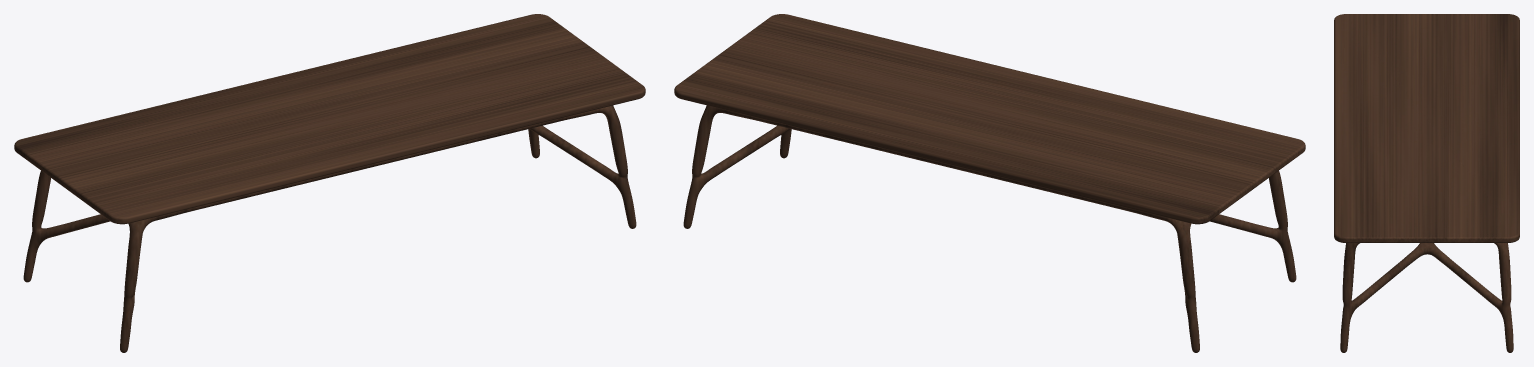
File: dining-table.glb
3 renders of one model, left to right at view 1: azimuth 30°, elevation 25°; view 2: azimuth 150°, elevation 25°; view 3: azimuth 270°, elevation 25°, orthographic. The views are drawn at different scales.
Visible parts, largest first — view 1: Dining Table: top GLB, Dining Table: frame GLB; view 2: Dining Table: top GLB, Dining Table: frame GLB; view 3: Dining Table: top GLB, Dining Table: frame GLB.
Boxes of the visible parts, x1,y1,x2,y2 form: Dining Table: top GLB: (14, 14, 645, 224); Dining Table: frame GLB: (23, 105, 636, 352); Dining Table: top GLB: (674, 14, 1305, 224); Dining Table: frame GLB: (683, 105, 1296, 352); Dining Table: top GLB: (1334, 14, 1519, 242); Dining Table: frame GLB: (1340, 243, 1513, 352).
Size of the model in its own units: 3 by 0.75 by 1.05.
2 materials, 2 textured.
